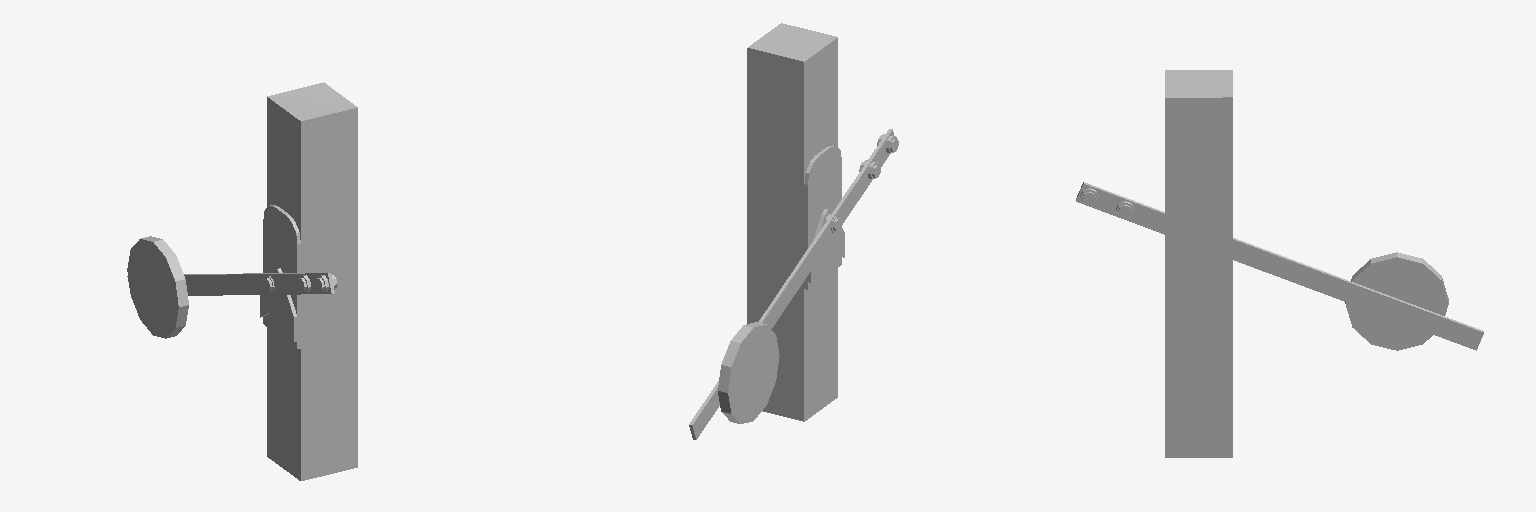
The model's file is lms_semaphore_post_lower.obj.
3 views of the same model, side by side, from view 1: azimuth 30°, elevation 25°; view 2: azimuth 150°, elevation 25°; view 3: azimuth 270°, elevation 25° (orthographic).
Parts seen in each view (by area): view 1: wood_lower_Cube.014; view 2: wood_lower_Cube.014; view 3: wood_lower_Cube.014.
Part boxes in pixels (x1,y1,x2,y2): wood_lower_Cube.014: (127, 82, 357, 480); wood_lower_Cube.014: (689, 23, 898, 439); wood_lower_Cube.014: (1076, 70, 1483, 457).
Bounding box in the file's own units: 0.2582 × 1 × 1.03.